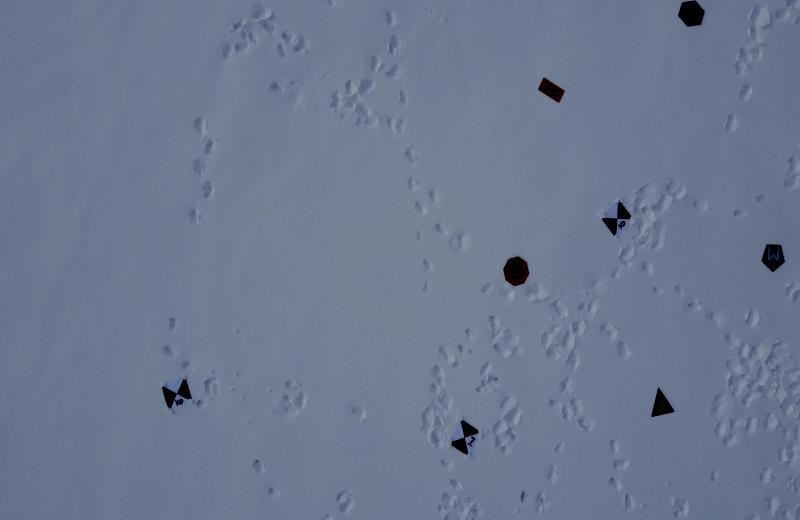Hexagon: (679, 0, 706, 26)
Octagon: (501, 254, 532, 288)
Pentagon: (759, 242, 786, 272)
Rectangle: (534, 74, 566, 106)
Triangle: (647, 388, 676, 420)
